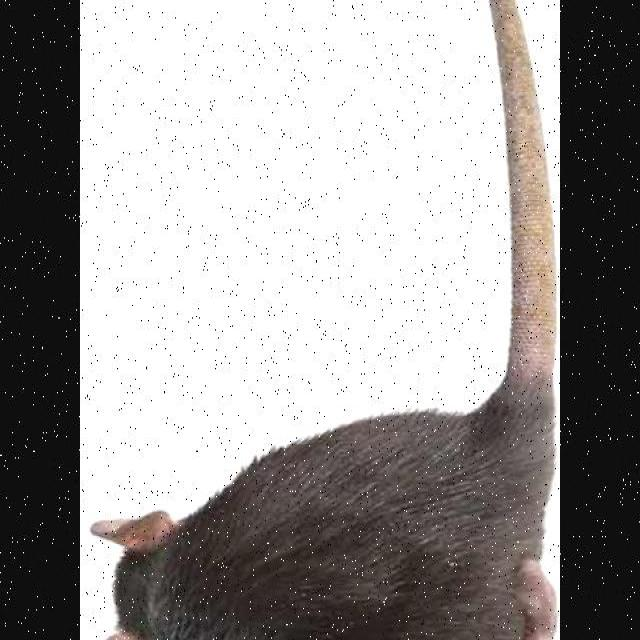rat: (84, 113, 558, 640)
